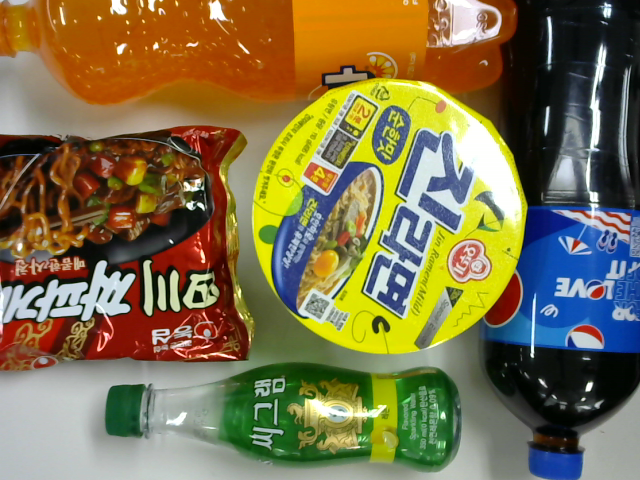Hwanta_Orange_1.5L: (1, 1, 532, 104)
Jinlamyeon_Mild_Taste_Large_Cup: (247, 89, 509, 344)
Pepsi_Cola_1.5L: (470, 1, 640, 467)
Seagram_Lemon_Carbonated_Water: (94, 355, 466, 464)
Sichuan_Chapaghetti: (1, 117, 241, 369)
